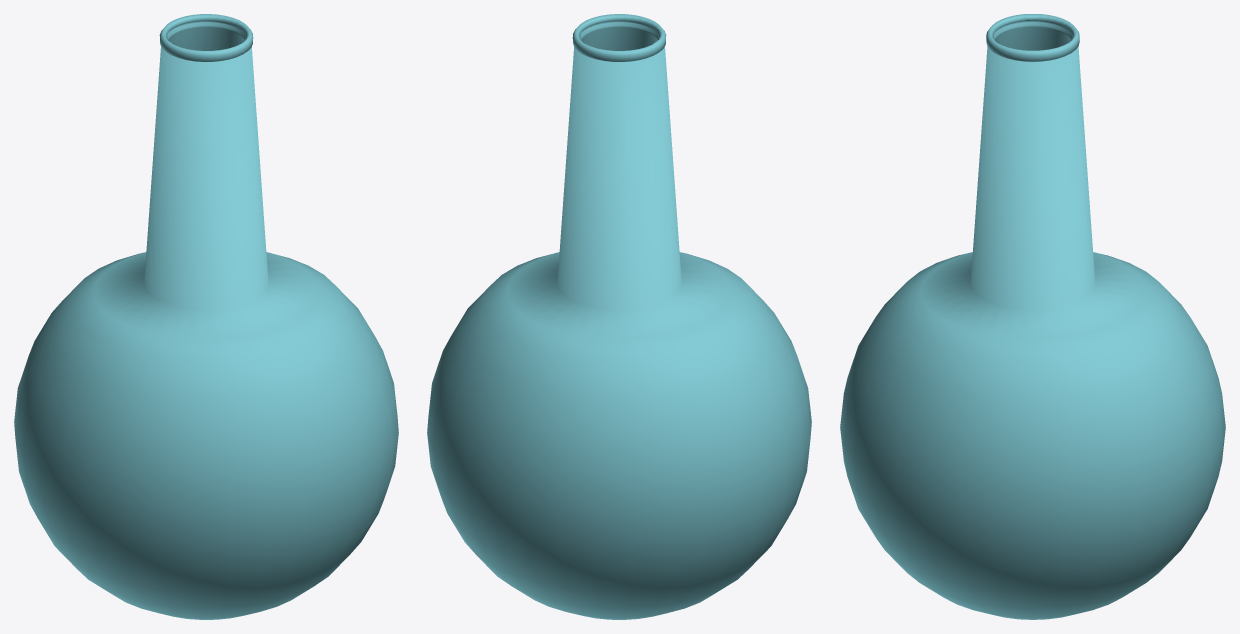
File: potionfinal.fbx
The picture shows the model from 3 angles, left to right: view 1: azimuth 30°, elevation 25°; view 2: azimuth 150°, elevation 25°; view 3: azimuth 270°, elevation 25°; orthographic projection.
Visible parts, largest first — view 1: Normal_mana_potion; view 2: Normal_mana_potion; view 3: Normal_mana_potion.
Boxes of the visible parts, x1,y1,x2,y2 form: Normal_mana_potion: (14, 14, 398, 619); Normal_mana_potion: (427, 14, 811, 619); Normal_mana_potion: (840, 14, 1225, 619).
Size of the model in its own units: 17.13 by 27.93 by 17.13.
